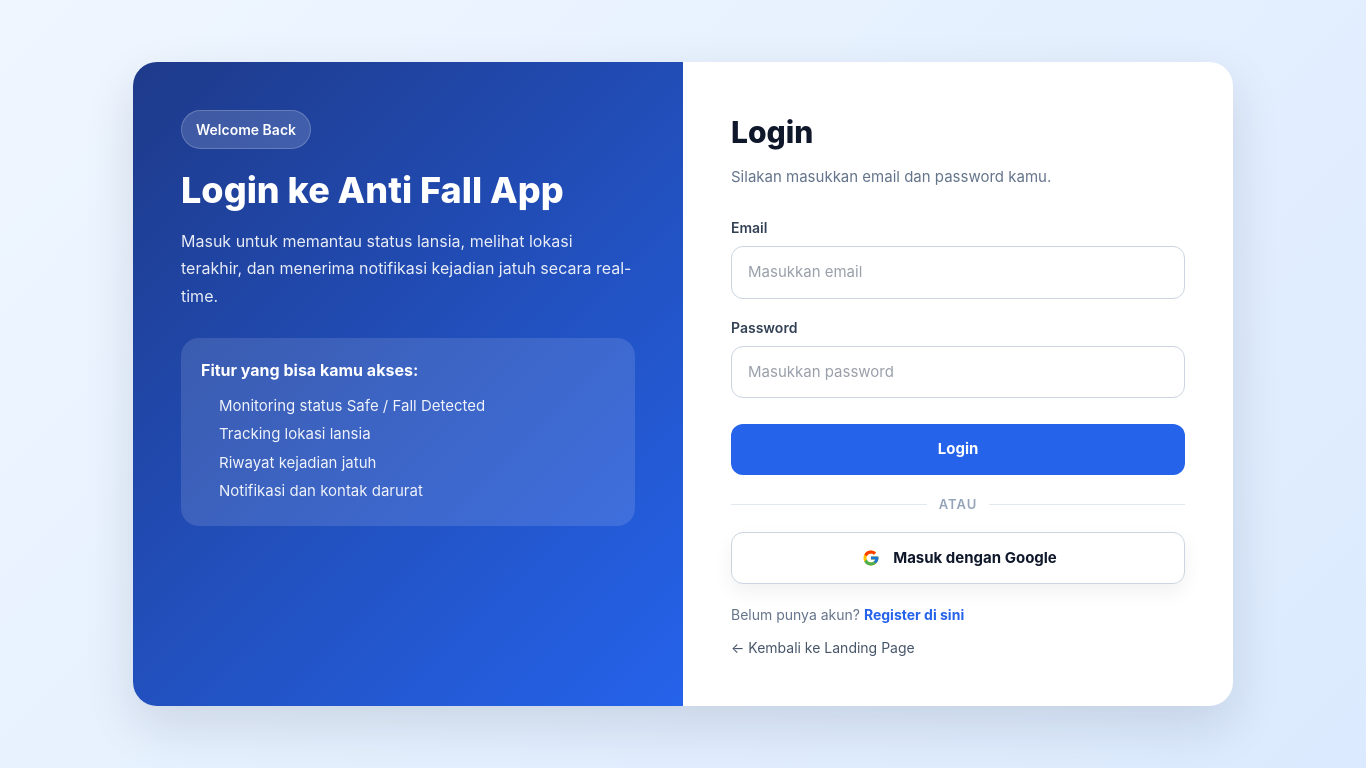
LoginView › shows error on failed email login
In the field with placeholder "Masukkan email": (958, 272) [731, 246, 1185, 298], type "wrong@test.com"
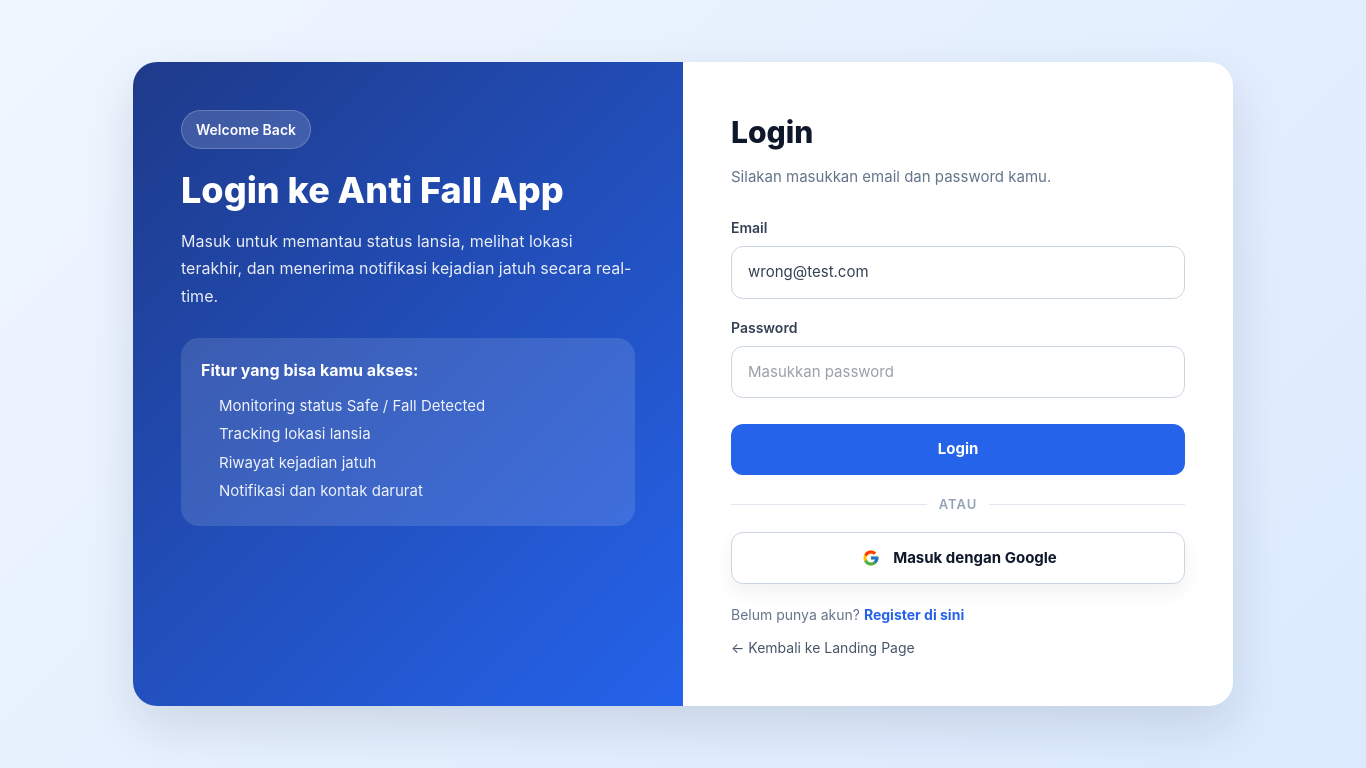
In the password field with placeholder "Masukkan password": (958, 372) [731, 346, 1185, 398], type "wrongpass"
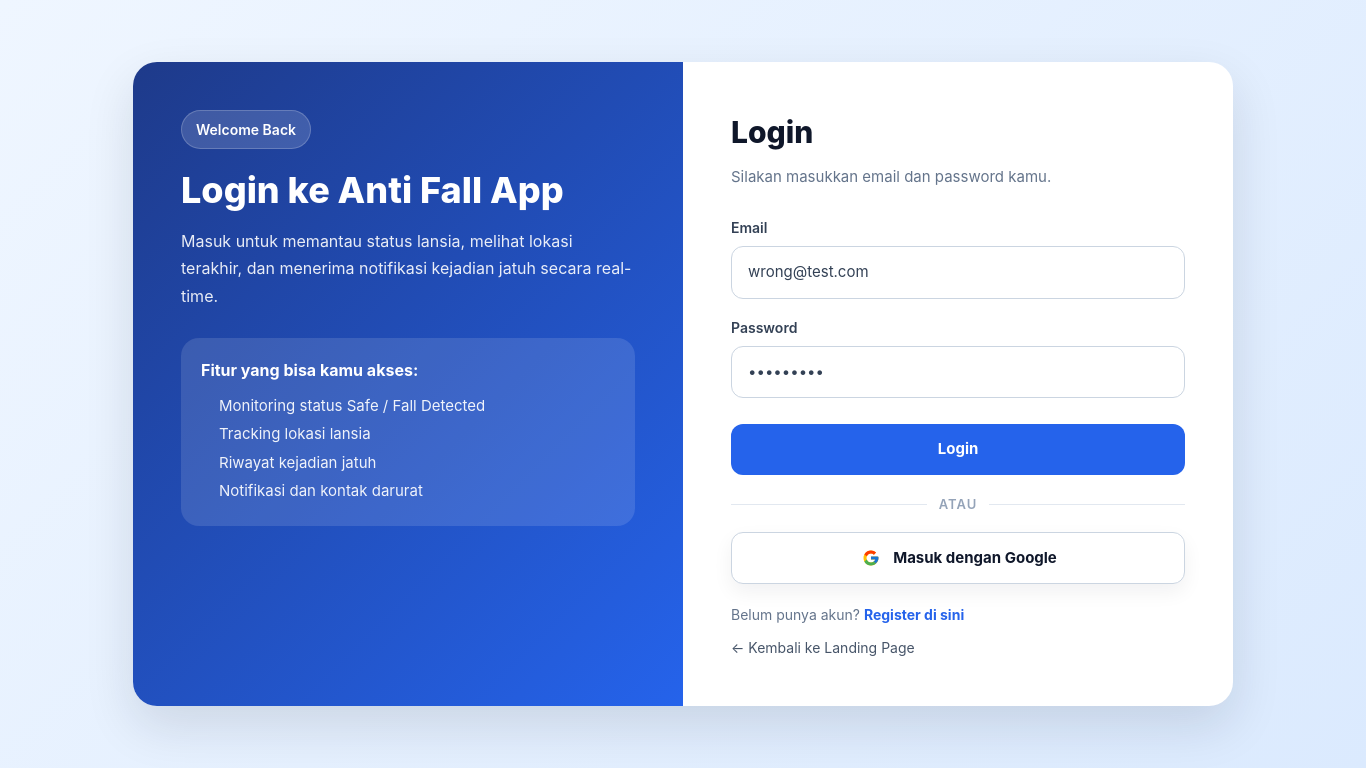
Click the button "Login": (958, 449) [731, 424, 1185, 474]
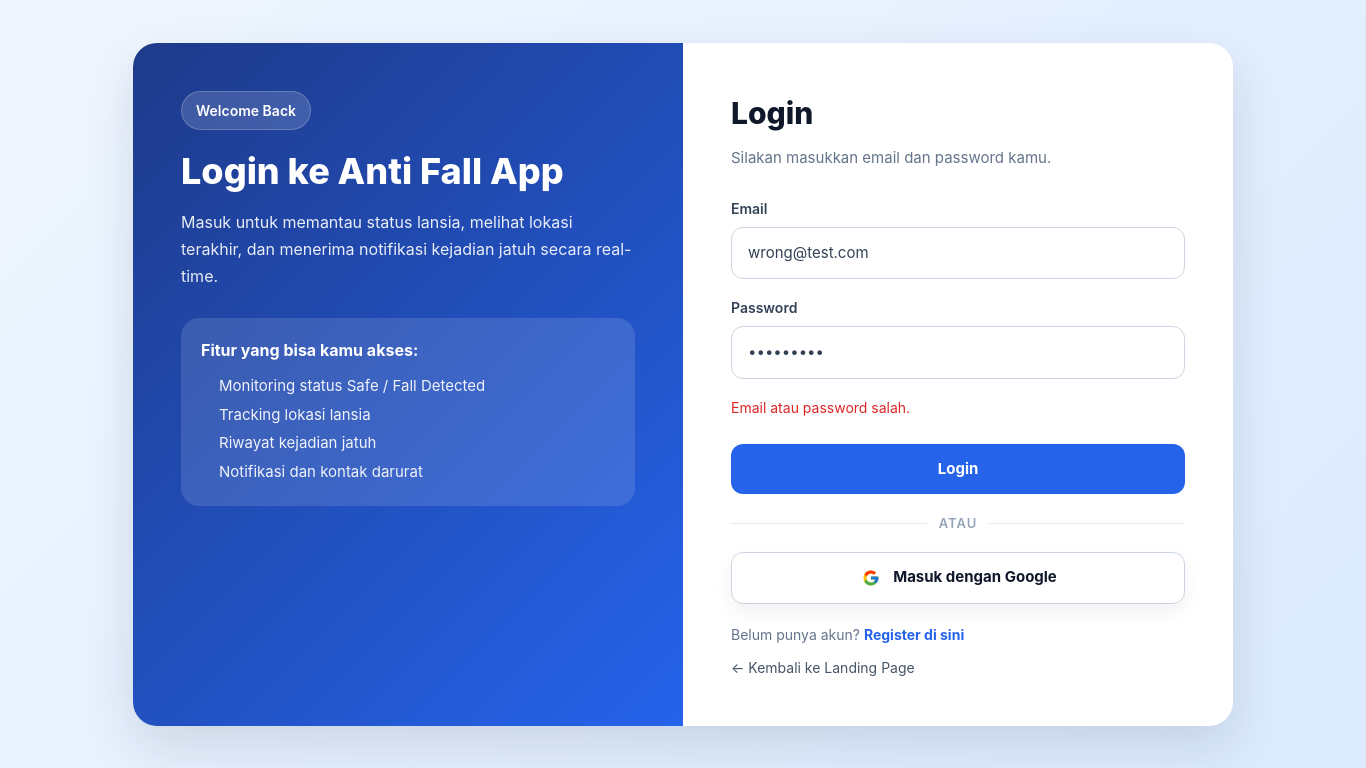
Expected: the text "Email atau password salah." is shown, [731, 398, 910, 416]
